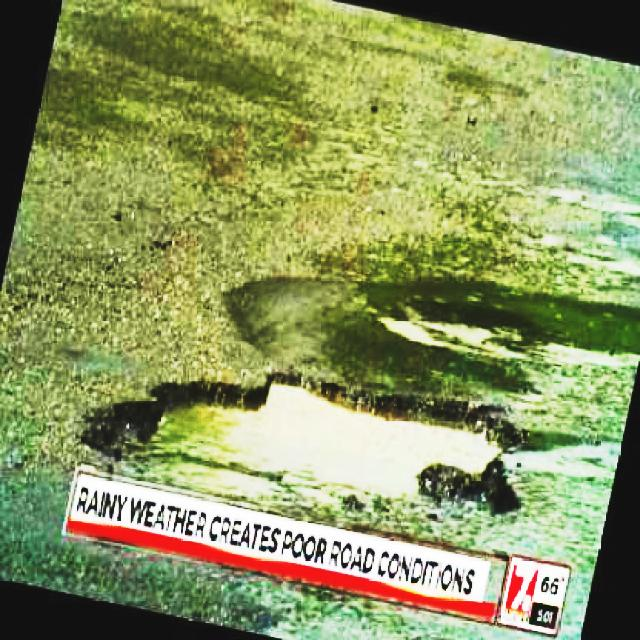pothole: (69, 358, 525, 537)
